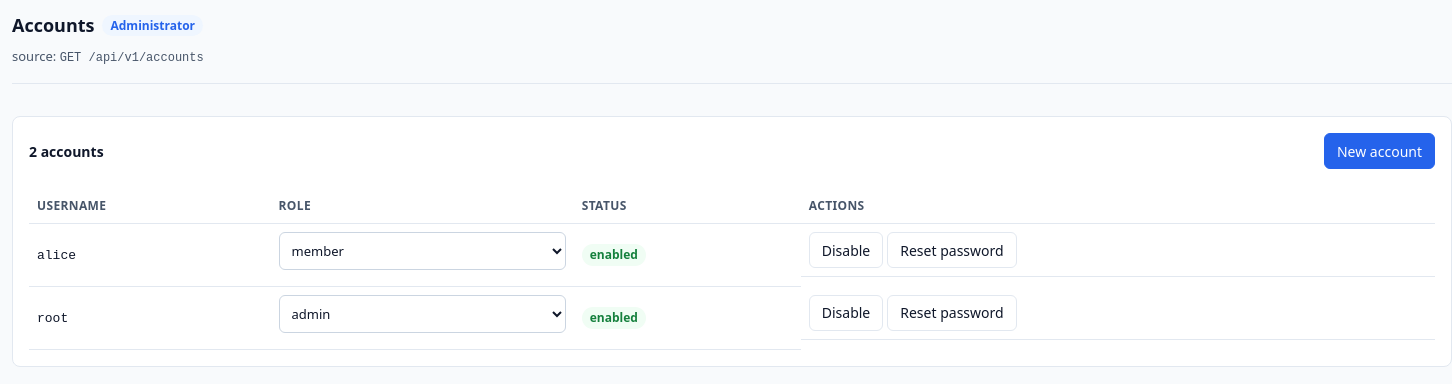
LG-062 Accounts admin panel › disables an account and shows the new status
Check: the text "alice" is shown, box [37,248,76,263]
Click the button "Disable" in the row of "alice".
click(846, 250)  # box [809,232,883,268]
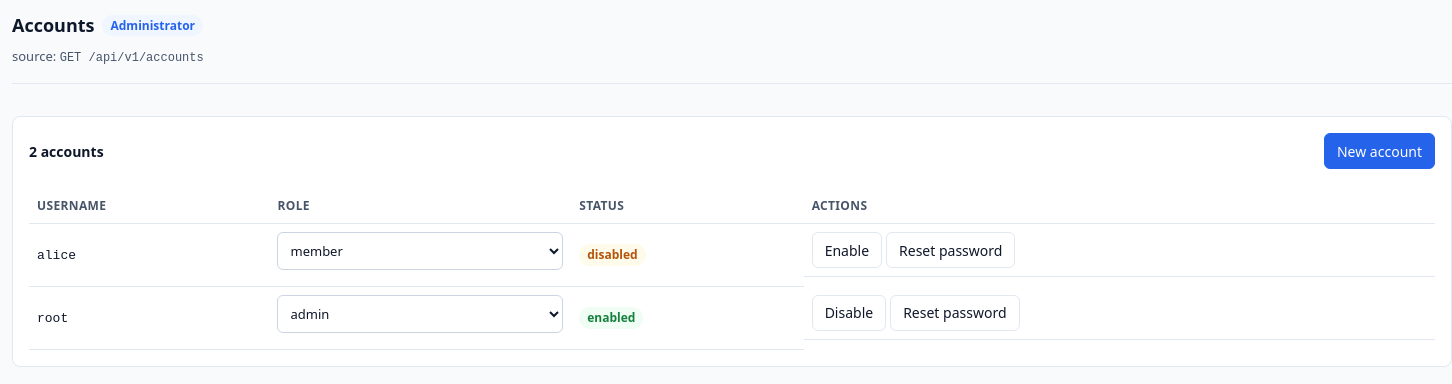
Check: the text "disabled" is shown, box [579,244,646,266]
